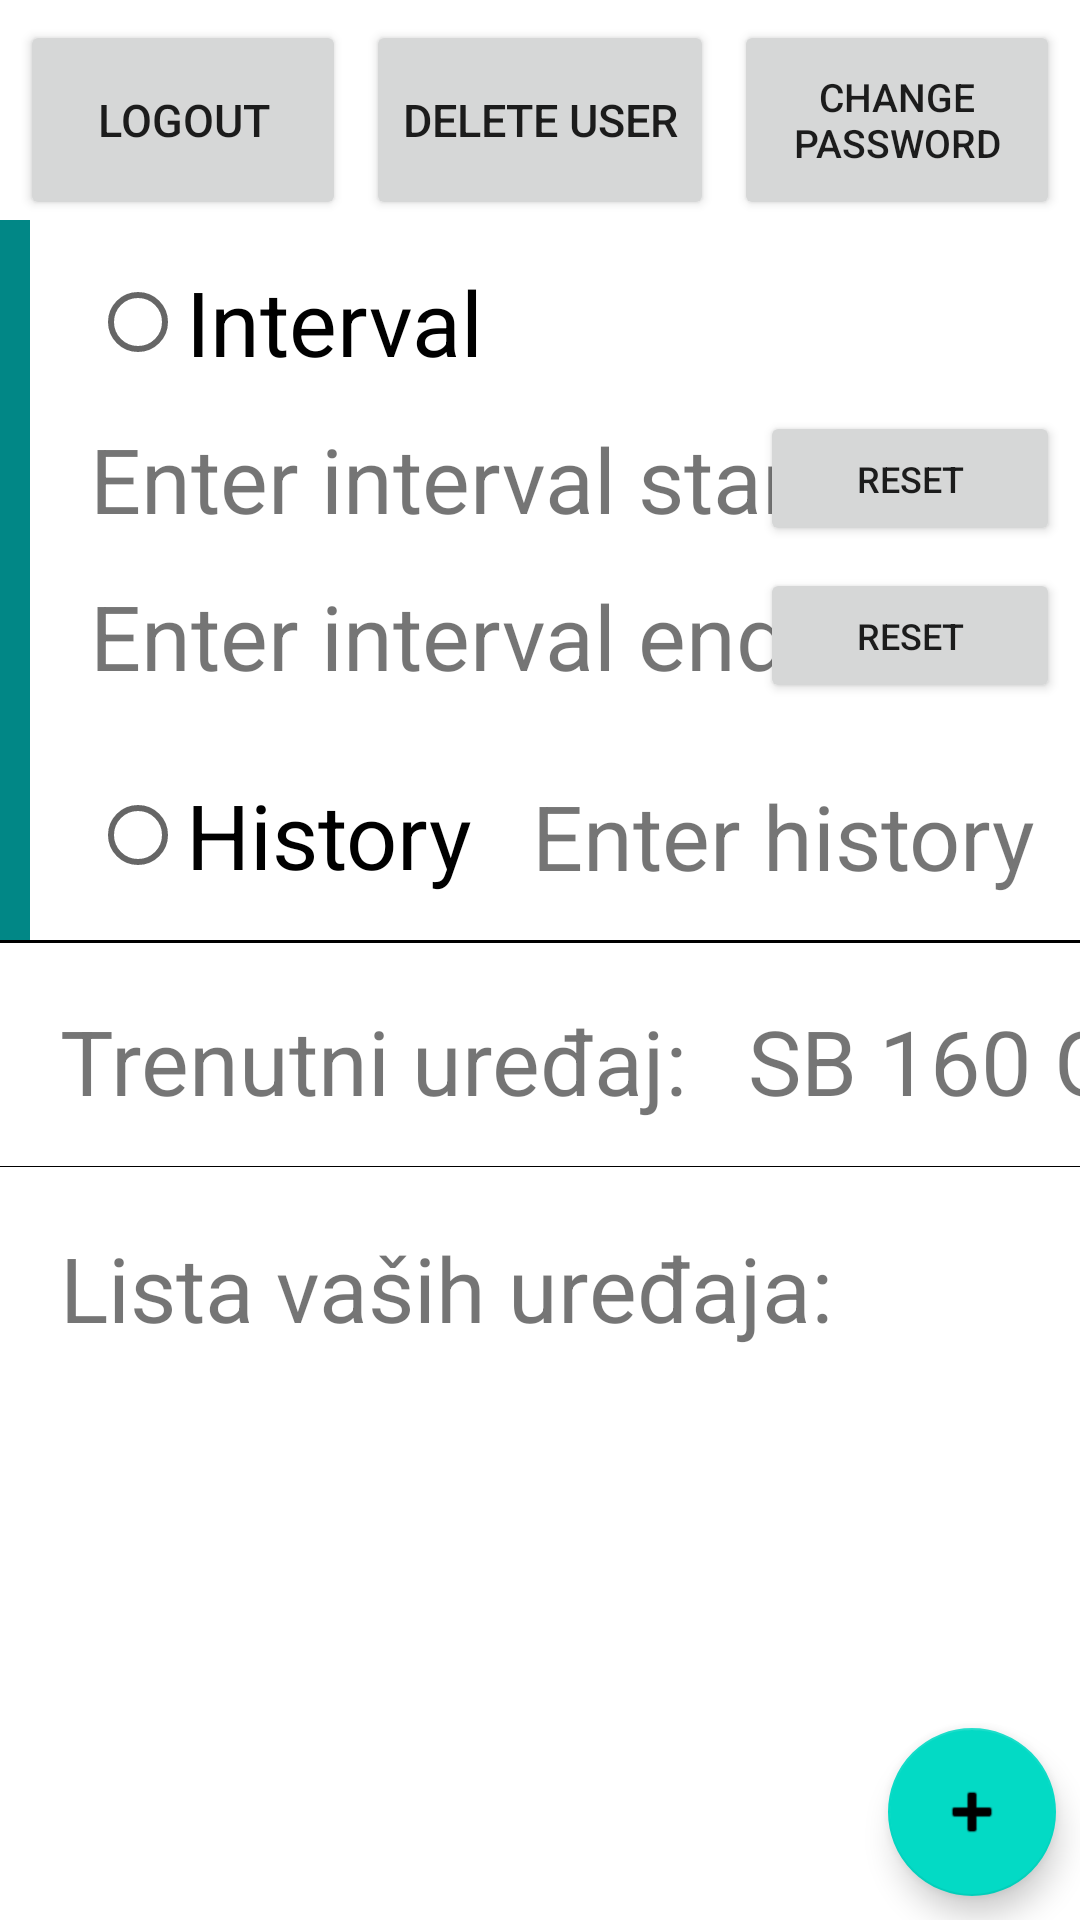

Icons on this 1080 x 1920 Android screen, each with its box as (x1, y1, x2, y2):
add: (888, 1728, 1056, 1896)
